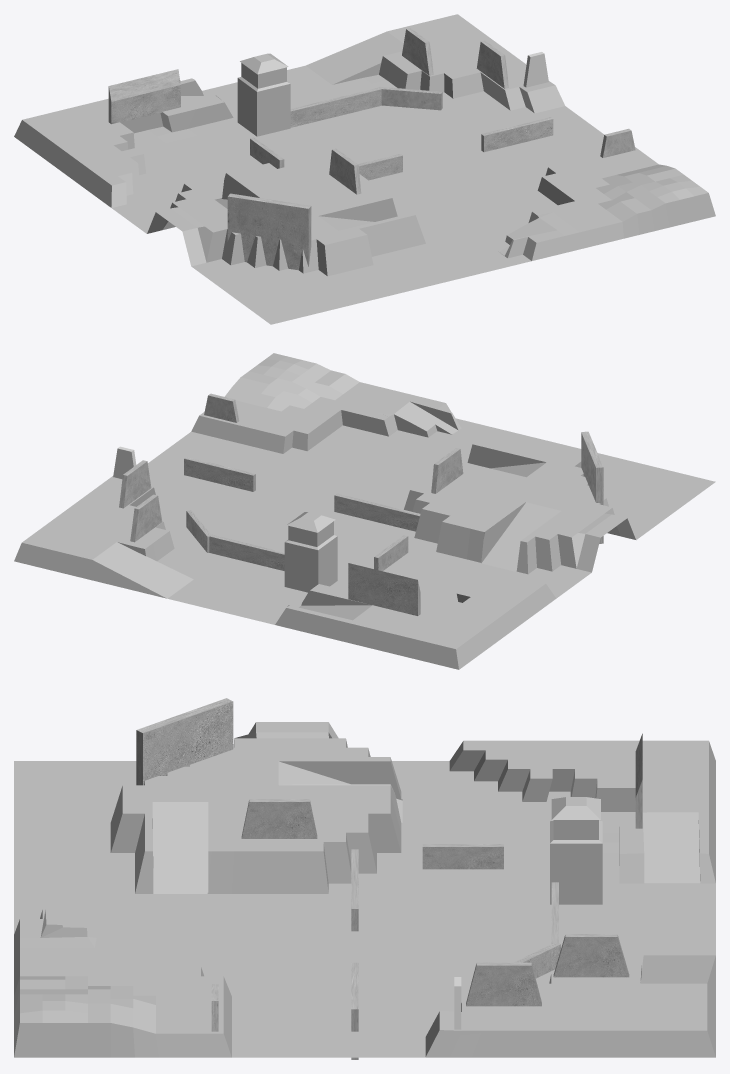
The model's file is maps 1.fbx.
3 renders of one model, top to bottom at view 1: azimuth 30°, elevation 25°; view 2: azimuth 150°, elevation 25°; view 3: azimuth 270°, elevation 25°, orthographic. The views are drawn at different scales.
Parts seen in each view (by area): view 1: Grid, Cube.012, Cube, Cube.010, Cube.003, Cube.002, Cube.004, Cube.007, Cube.005, Cube.011, Cube.001, Cube.013 (+2 smaller); view 2: Grid, Cube, Cube.010, Cube.001, Cube.003, Cube.002, Cube.012, Cube.007, Cube.005, Cube.011, Cube.013, Cube.006 (+2 smaller); view 3: Grid, Cube, Cube.012, Cube.007, Cube.005, Cube.011, Cube.006, Cube.004, Cube.010, Cube.001, Cube.002.
Part boxes in pixels (x1,y1,x2,y2): Grid: (14,14,715,324); Cube.012: (227,193,311,270); Cube: (237,53,290,136); Cube.010: (108,69,180,124); Cube.003: (290,87,381,127); Cube.002: (481,117,553,152); Cube.004: (379,86,442,110); Cube.007: (476,40,508,88); Cube.005: (402,28,433,75); Cube.011: (329,148,361,194); Cube.001: (358,153,402,180); Cube.013: (600,128,635,157); Grid: (14,353,715,669); Cube: (284,512,337,592); Cube.010: (348,563,420,615); Cube.001: (334,493,420,531); Cube.003: (209,534,284,570); Cube.002: (184,457,255,491); Cube.012: (581,431,603,543); Cube.007: (119,460,151,508); Cube.005: (130,494,162,542); Cube.011: (431,448,463,493); Cube.013: (204,393,239,422); Cube.006: (374,535,408,571); Grid: (14,722,715,1057); Cube: (550,797,602,904); Cube.012: (136,698,233,785); Cube.007: (466,962,541,1006); Cube.005: (553,934,629,977); Cube.011: (241,799,317,838); Cube.006: (422,844,503,869); Cube.004: (514,943,560,978); Cube.010: (635,733,642,828); Cube.001: (351,849,358,931); Cube.002: (351,962,358,1059).
Size of the model in its own units: 6510 by 1233 by 6510.
